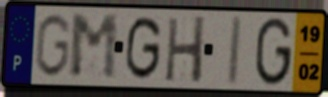G: (253, 16, 295, 89), (32, 12, 74, 80), (123, 14, 164, 82)
H: (163, 14, 208, 86)
I: (224, 14, 245, 88)
M: (69, 12, 120, 82)
